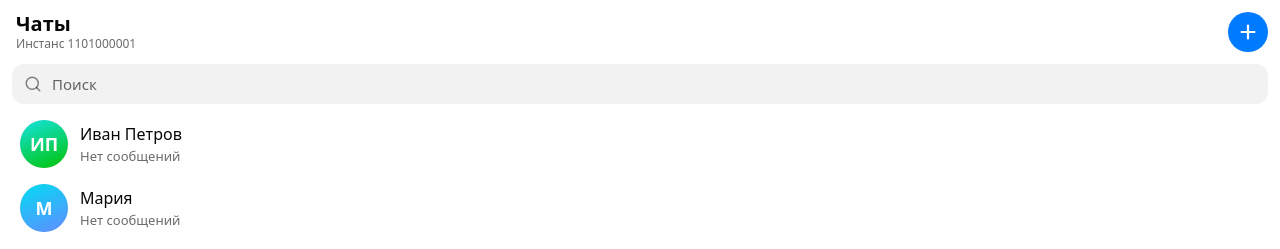
Test: Sidebar: поиск по чатам › оставляет в списке чаты, подходящие по имени
Type "мар" into the search field named "Поиск по чатам". click: [640, 84]
box: [12,64,1268,104]
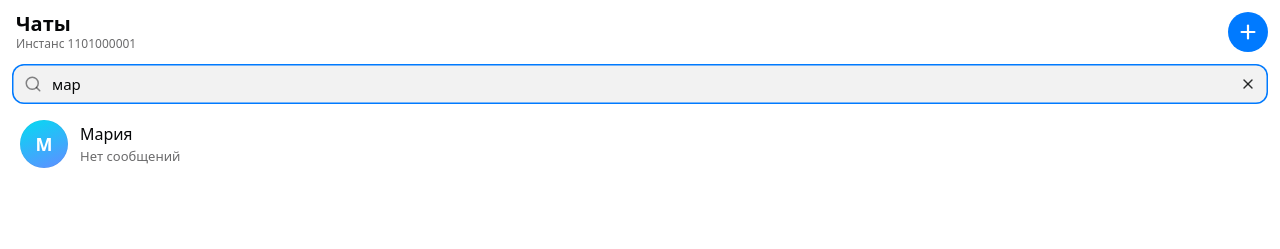
Expected: the text "Мария" is shown, [80,124,133,144]
Now the button "Иван Петров" is gone
